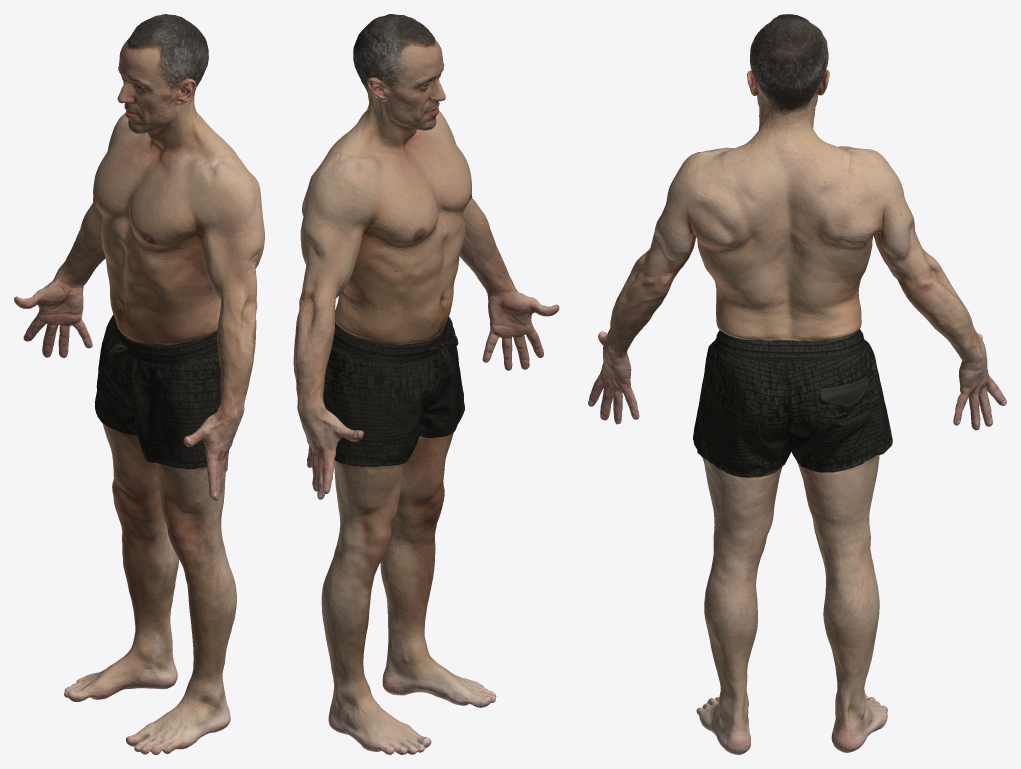
The model's file is npc_pasir.fbx.
3 renders of one model, left to right at view 1: azimuth 30°, elevation 25°; view 2: azimuth 150°, elevation 25°; view 3: azimuth 270°, elevation 25°, orthographic. The views are drawn at different scales.
Parts seen in each view (by area): view 1: UW3AKDQ78E99GV22N62NHXXUU; view 2: UW3AKDQ78E99GV22N62NHXXUU; view 3: UW3AKDQ78E99GV22N62NHXXUU.
Part boxes in pixels (x1=…): UW3AKDQ78E99GV22N62NHXXUU: x1=14, y1=14, x2=264, y2=754; UW3AKDQ78E99GV22N62NHXXUU: x1=293, y1=14, x2=559, y2=754; UW3AKDQ78E99GV22N62NHXXUU: x1=588, y1=14, x2=1006, y2=754.
Size of the model in its own units: 49.69 by 250 by 132.
1 material, 1 textured.
